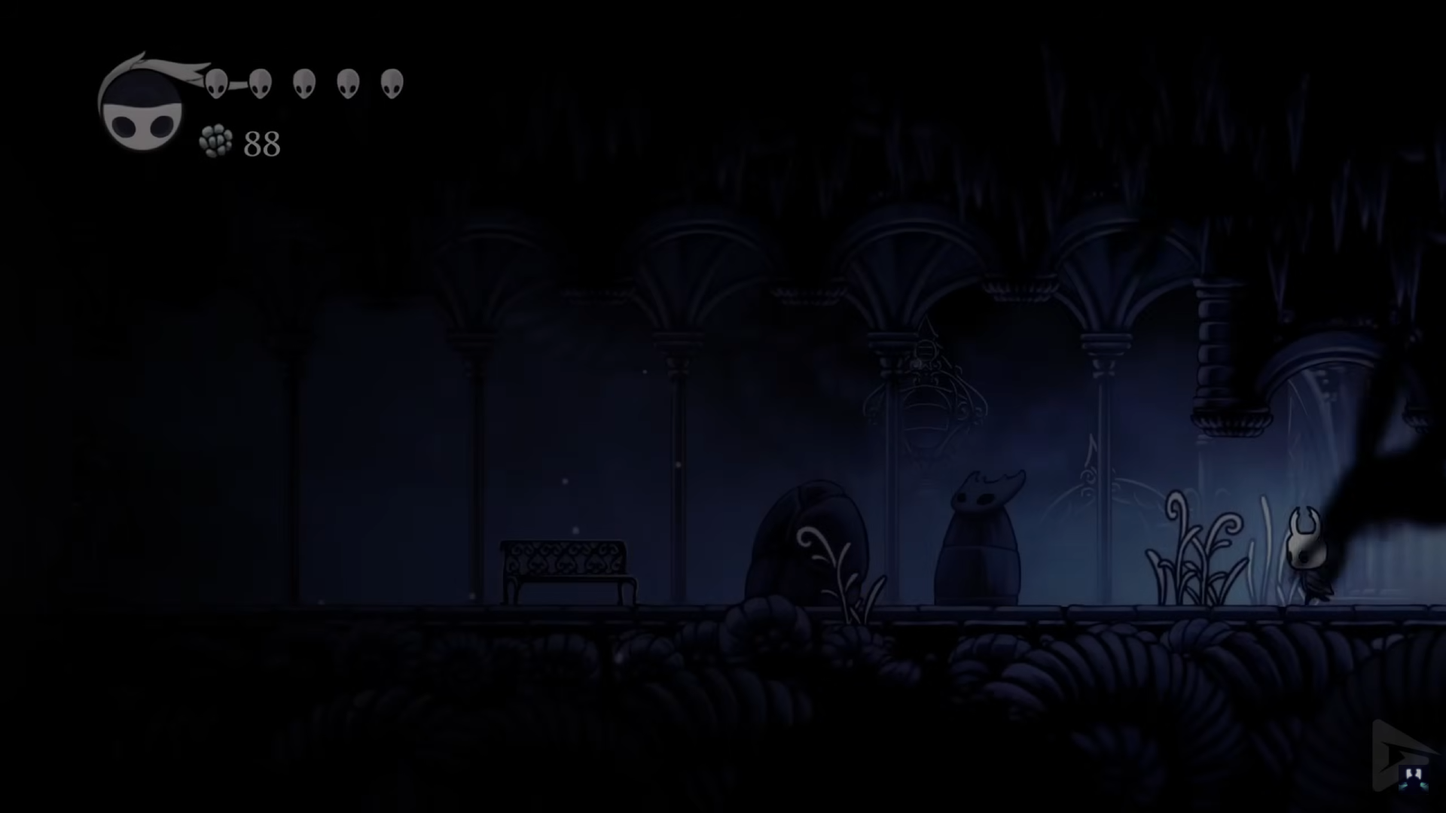HK: (1282, 503, 1338, 604)
